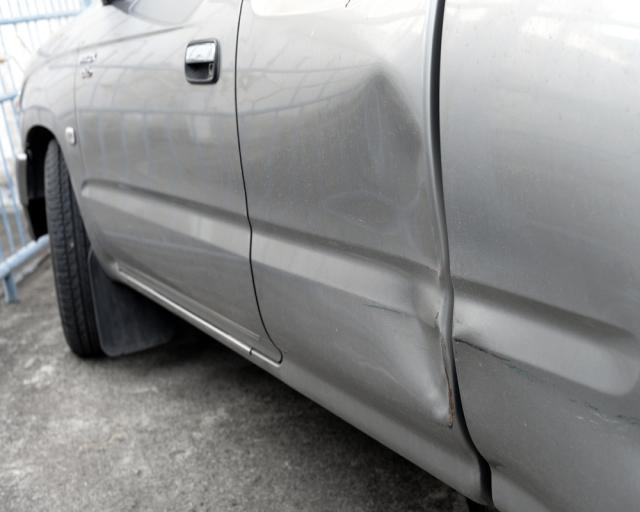dent: (313, 73, 453, 423)
